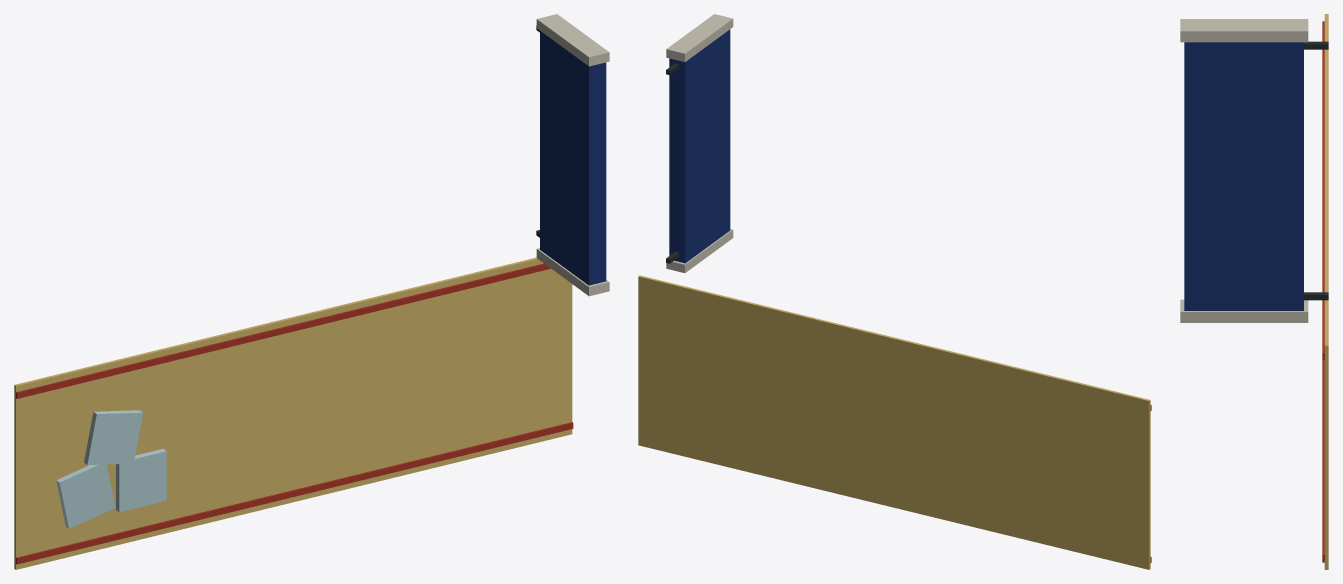
Rendered from bang_tap_hoa_bay_hien_40.glb.
3 renders of one model, left to right at view 1: azimuth 30°, elevation 25°; view 2: azimuth 150°, elevation 25°; view 3: azimuth 270°, elevation 25°, orthographic. The views are drawn at different scales.
Parts seen in each view (by area): view 1: bang_tap_hoa_bay_hien_40; view 2: bang_tap_hoa_bay_hien_40; view 3: bang_tap_hoa_bay_hien_40.
Boxes of the visible parts, x1,y1,x2,y2 form: bang_tap_hoa_bay_hien_40: [14, 14, 609, 569]; bang_tap_hoa_bay_hien_40: [638, 14, 1151, 569]; bang_tap_hoa_bay_hien_40: [1180, 14, 1328, 569].
Bounding box in the file's own units: 3.8 × 2.81 × 0.72.
